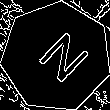N_SW: (25, 25, 88, 89)
